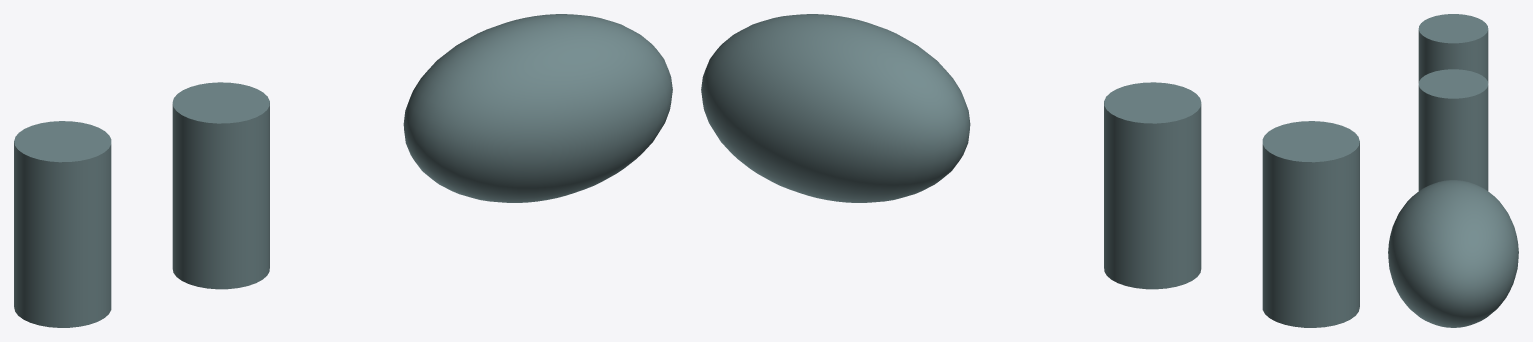
The model's file is edits_copies.glb.
3 views of the same model, side by side, from view 1: azimuth 30°, elevation 25°; view 2: azimuth 150°, elevation 25°; view 3: azimuth 270°, elevation 25° (orthographic). The views are drawn at different scales.
Visible parts, largest first — view 1: egg; view 2: egg; view 3: egg.
Boxes of the visible parts, bbox=[...] form: egg: bbox=[14, 14, 672, 327]; egg: bbox=[701, 14, 1359, 327]; egg: bbox=[1388, 14, 1518, 327].
Size of the model in its own units: 0.122 by 0.03 by 0.03.
